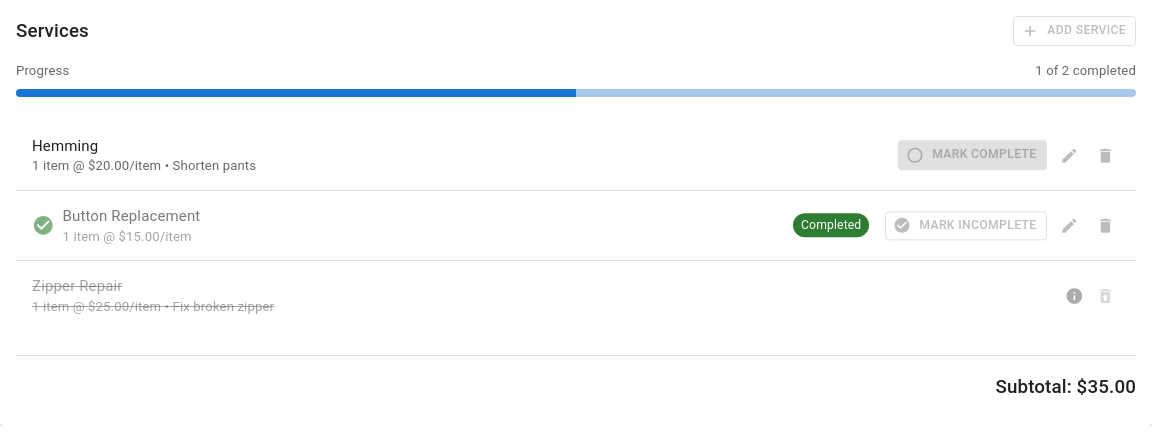
Test: GarmentServicesManager › When garment is Done › should show tooltip explaining why Add Service is disabled
Hover over the element "Add Service".
mouse_move(1075, 31)  # box [1013, 16, 1136, 46]
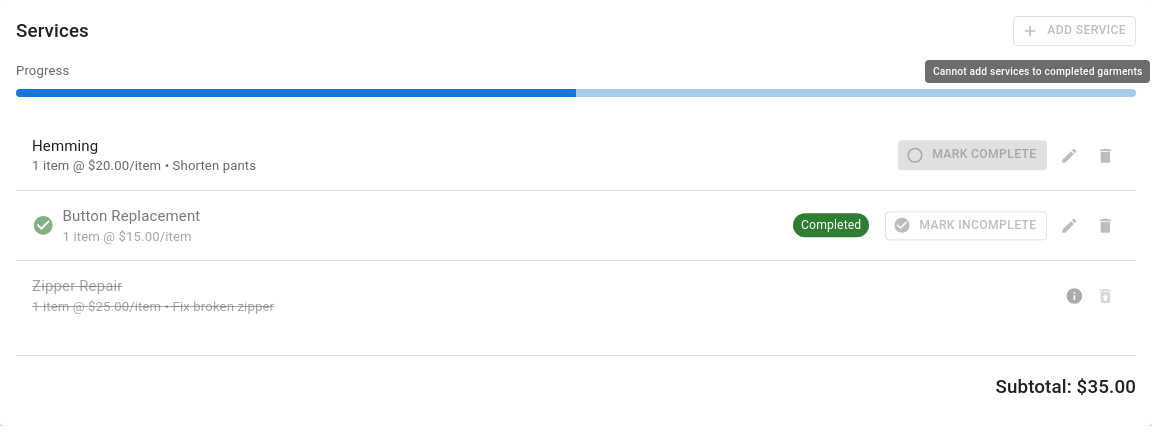
expect the text "Cannot add services to completed garments" is shown: met, box [925, 60, 1150, 84]
